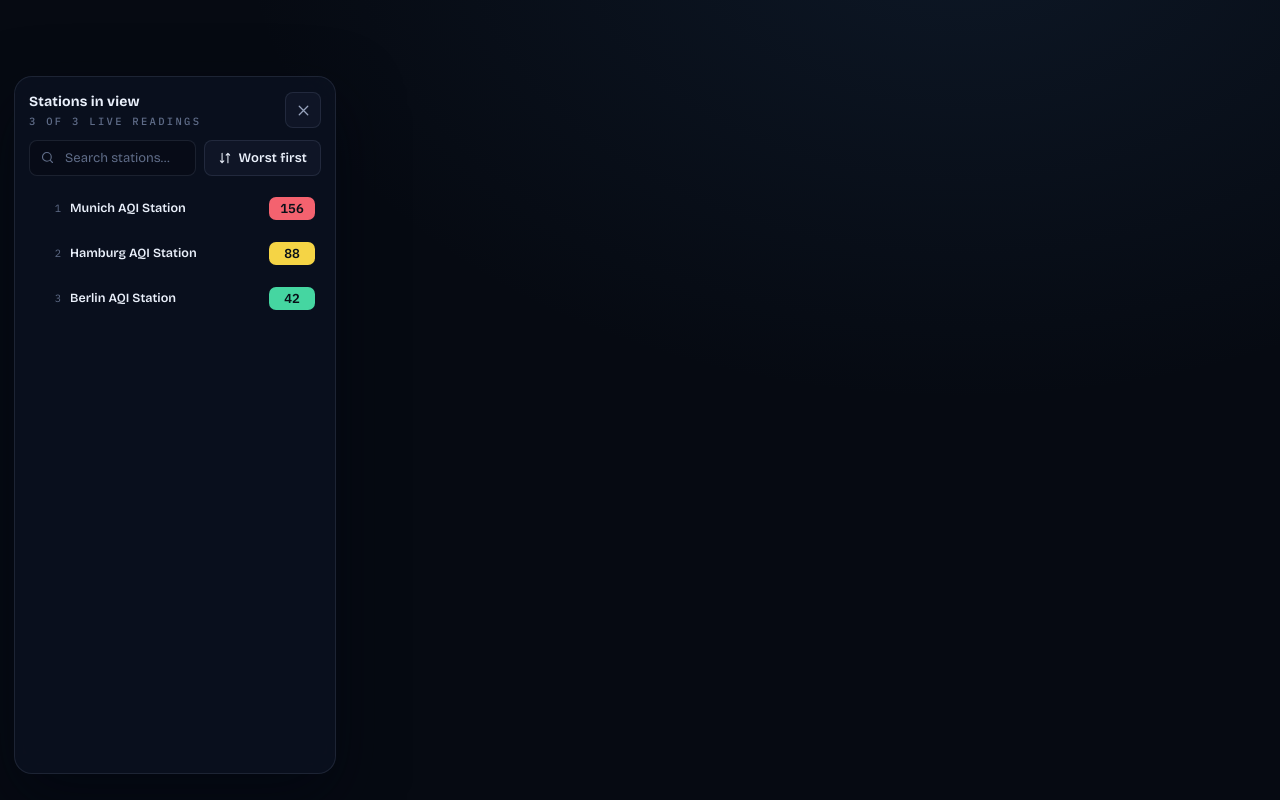
Test: filters stations by search query
This screenshot has width=1280, height=800.
Type "Munich" into the search field with placeholder "Search stations…" at point(124, 158), box [63,149,185,167]
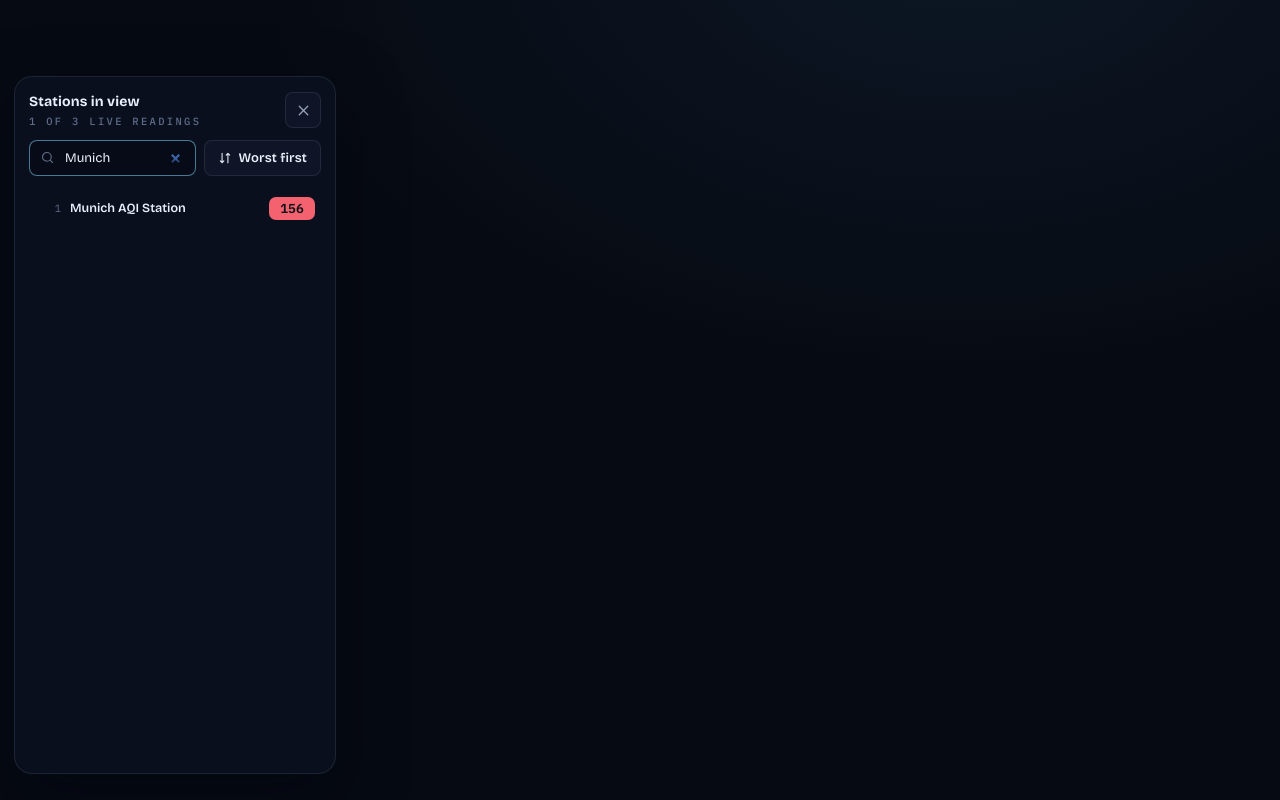
expect the text "Munich AQI Station" is shown: met, box [70,200,186,215]
expect the list item "Berlin AQI Station" is gone: met
